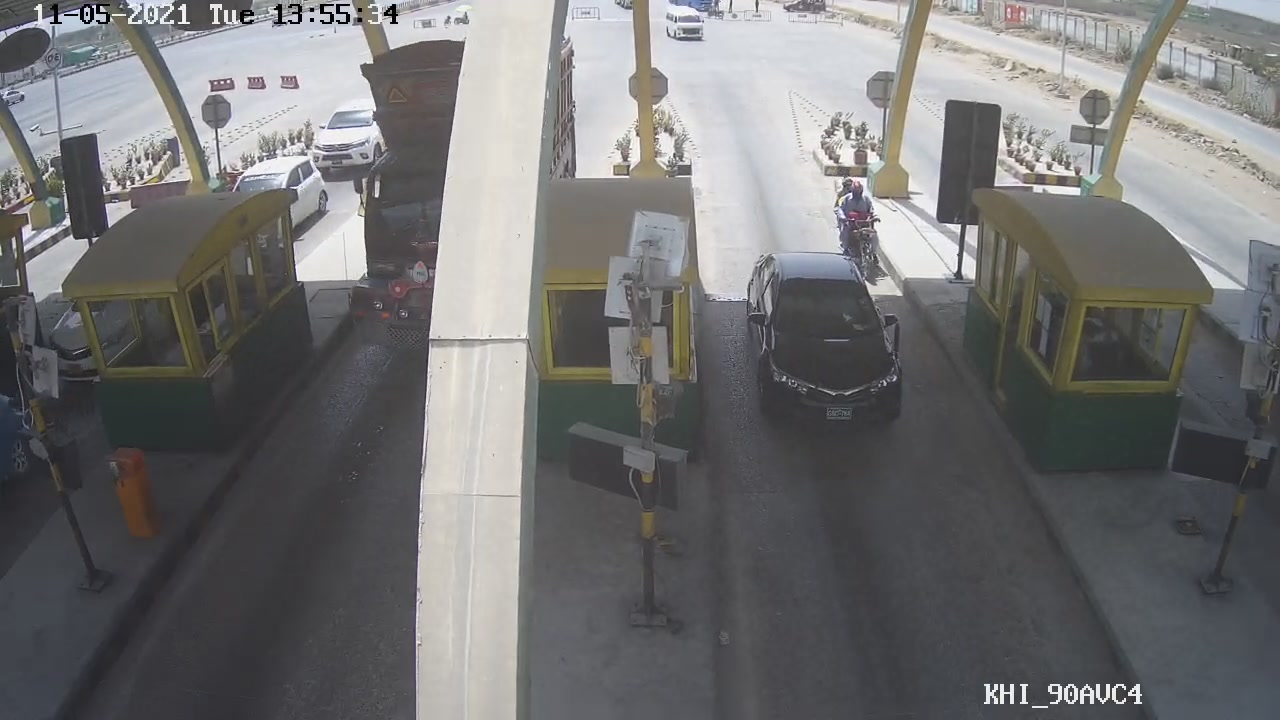F2: (734, 246, 913, 432)
